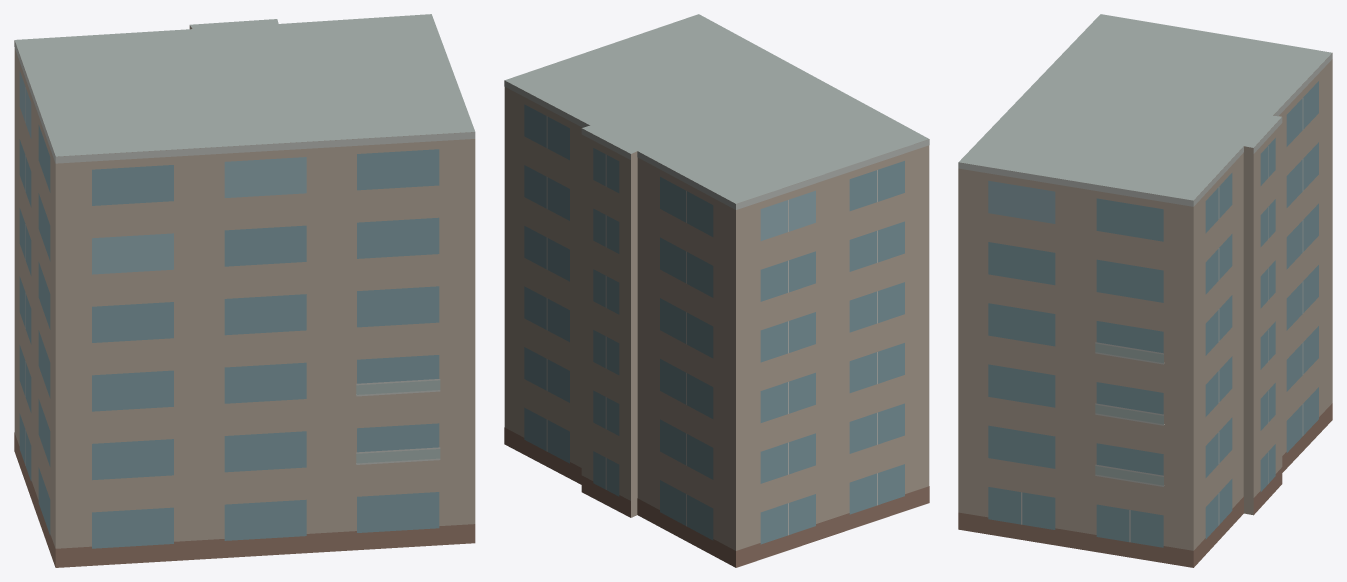
Rendered from survey-upis-32878823.glb.
The picture shows the model from 3 angles, left to right: view 1: azimuth 30°, elevation 25°; view 2: azimuth 150°, elevation 25°; view 3: azimuth 270°, elevation 25°; orthographic projection. The views are drawn at different scales.
Parts seen in each view (by area): view 1: survey-upis-32878823.tmp; view 2: survey-upis-32878823.tmp; view 3: survey-upis-32878823.tmp.
Part boxes in pixels (bbox=[...]): survey-upis-32878823.tmp: bbox=[14, 14, 475, 567]; survey-upis-32878823.tmp: bbox=[504, 14, 929, 567]; survey-upis-32878823.tmp: bbox=[958, 14, 1332, 567].
Size of the model in its own units: 15.59 by 14.3 by 13.21.
